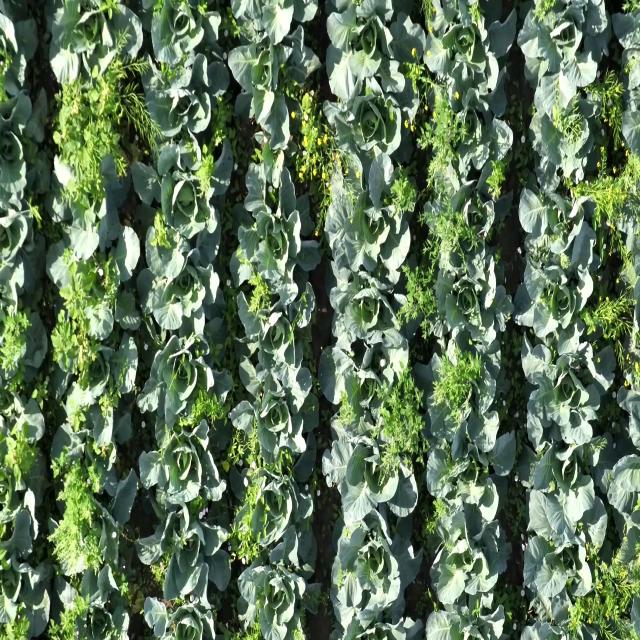holes: (130, 130, 236, 246), (325, 251, 415, 384), (417, 0, 520, 105), (612, 0, 640, 110)
